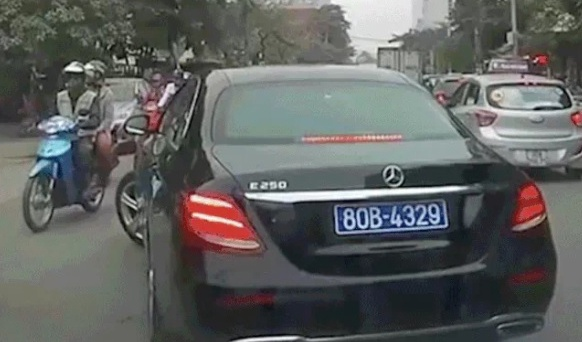plate: (331, 196, 449, 237)
